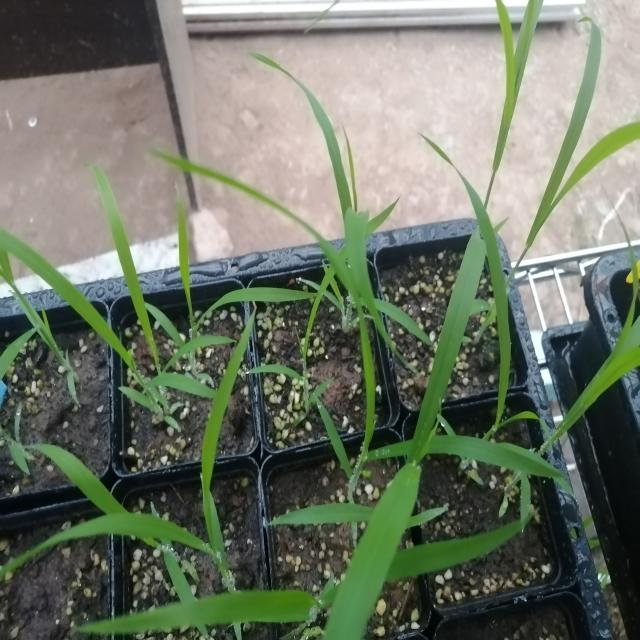crabgrass: (310, 227, 528, 612), (27, 404, 305, 633), (0, 172, 231, 428)
